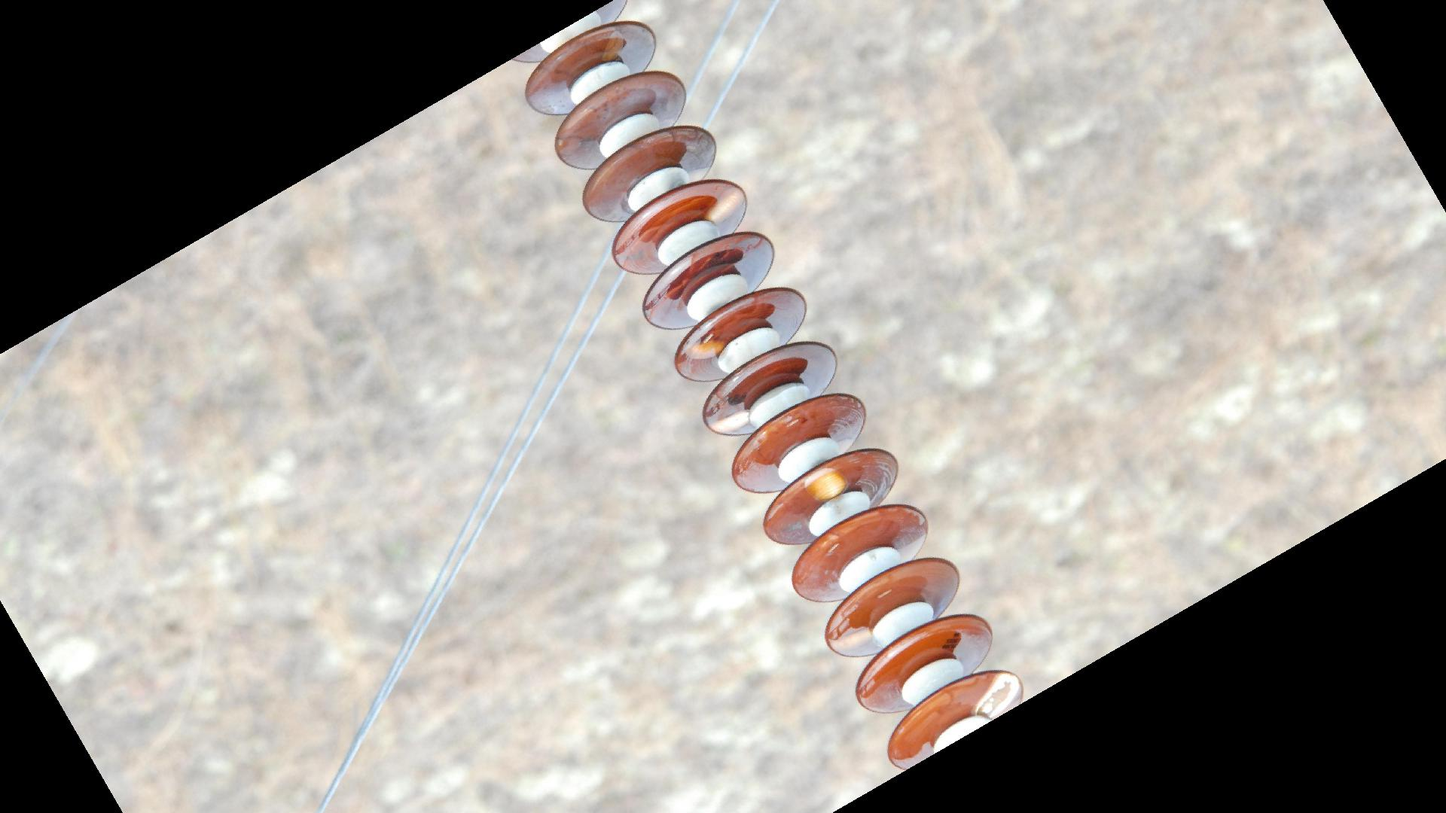insulator: (501, 1, 1027, 775)
insulator_flashover: (973, 671, 1022, 719), (803, 464, 850, 503), (703, 185, 746, 224), (829, 626, 874, 653), (682, 336, 726, 362), (708, 408, 750, 435)
